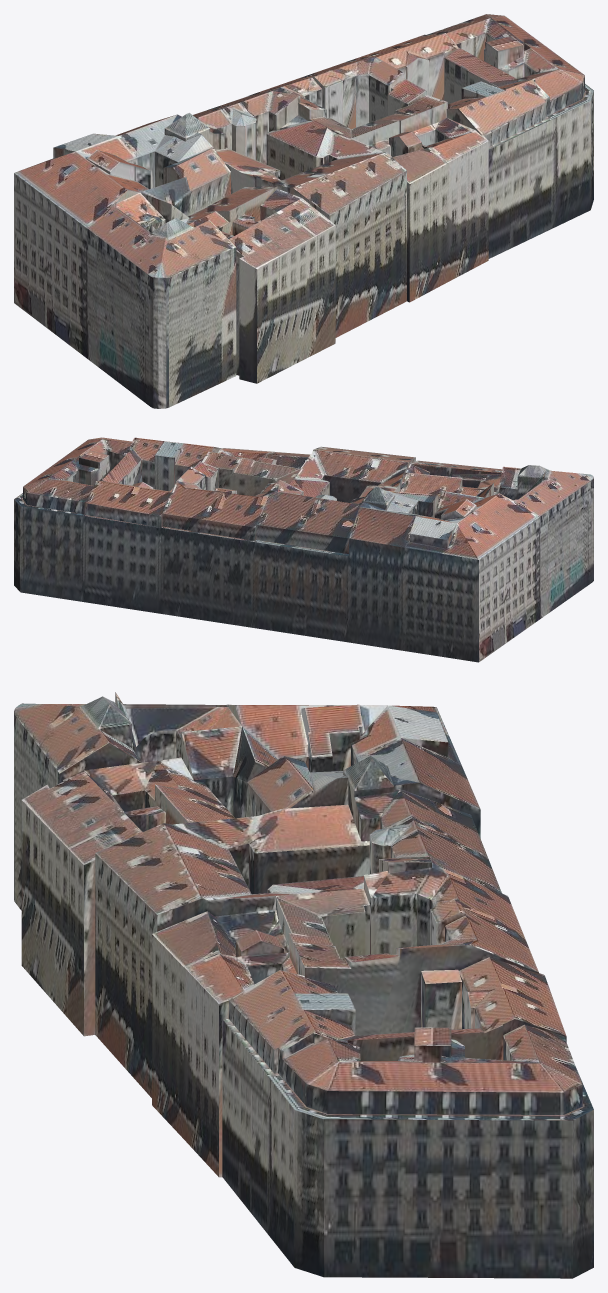
Rendered from LYON_1ER_00161.dae.
3 renders of one model, top to bottom at view 1: azimuth 30°, elevation 25°; view 2: azimuth 150°, elevation 25°; view 3: azimuth 270°, elevation 25°, orthographic. The views are drawn at different scales.
Size of the model in its own units: 107 by 67.81 by 31.59.
Materials: 2 (2 with a texture image).
